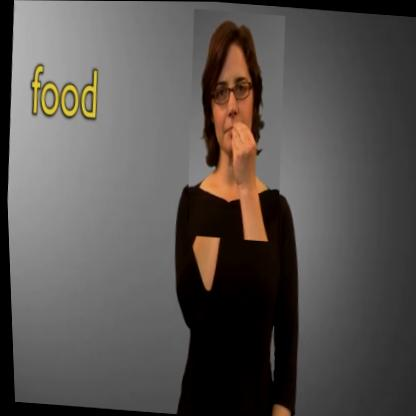Food: (178, 9, 292, 242)
